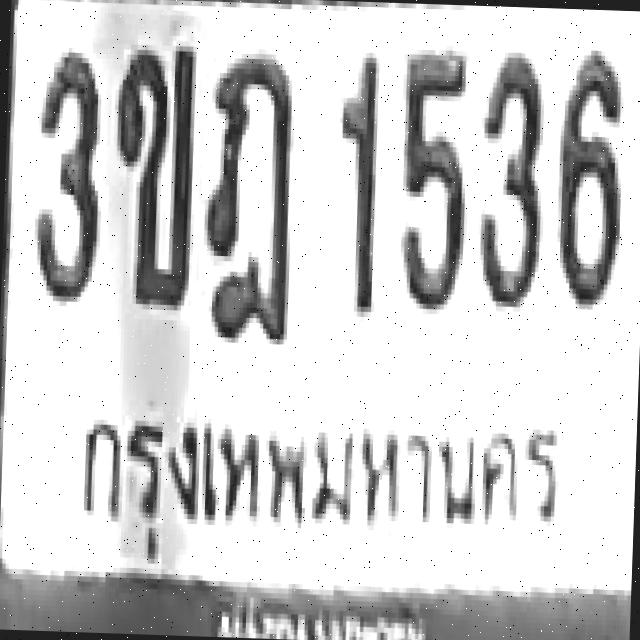1: (331, 51, 382, 316)
11KhorKhai: (110, 41, 194, 308)
23DorChaDa: (200, 50, 297, 342)
3: (28, 46, 102, 302), (474, 48, 546, 310)
5: (395, 48, 469, 310)
6: (552, 46, 624, 308)
Bangkok: (66, 386, 576, 588)
